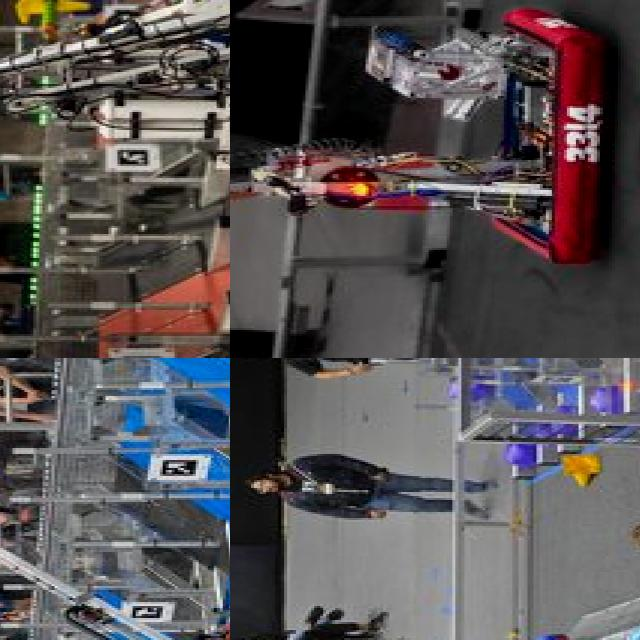FRC-Robots: (230, 6, 616, 292), (0, 0, 230, 213), (0, 480, 230, 640)
